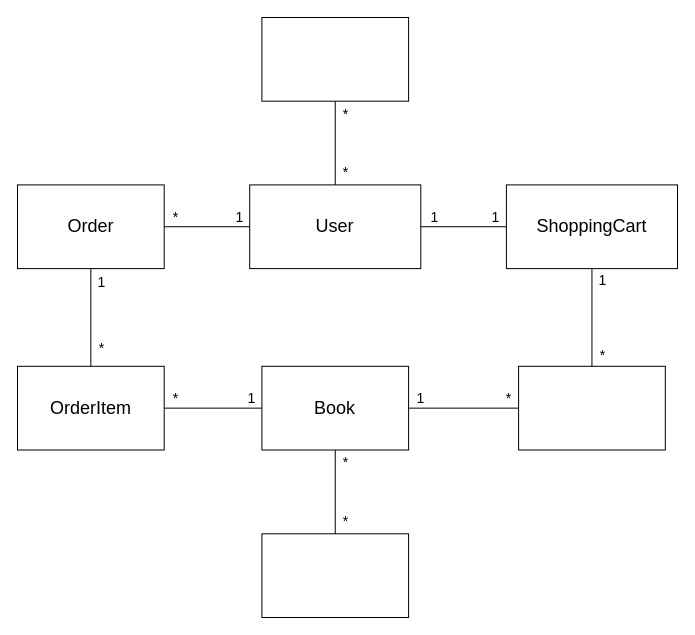
Image size: 695x635. Some labels were removed from this diagram. The shapes that lost their labels are listed below. From the top down, each one's centre as x and y in pixels, then its label:
the point at 335,58: Role
the point at 591,407: CartItem
the point at 335,575: Category
